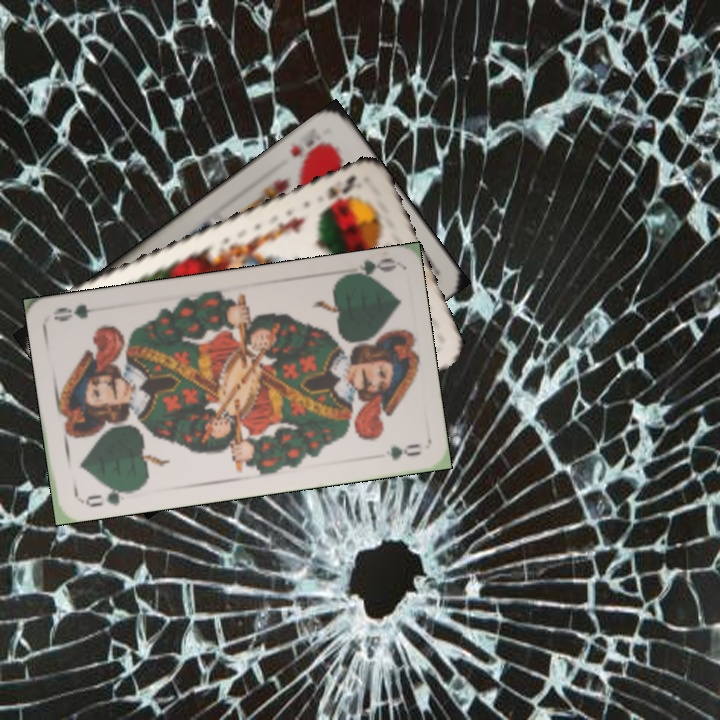GO: (338, 253, 396, 283), (77, 482, 136, 510)
HK: (286, 131, 332, 167)
SK: (319, 171, 359, 211)
